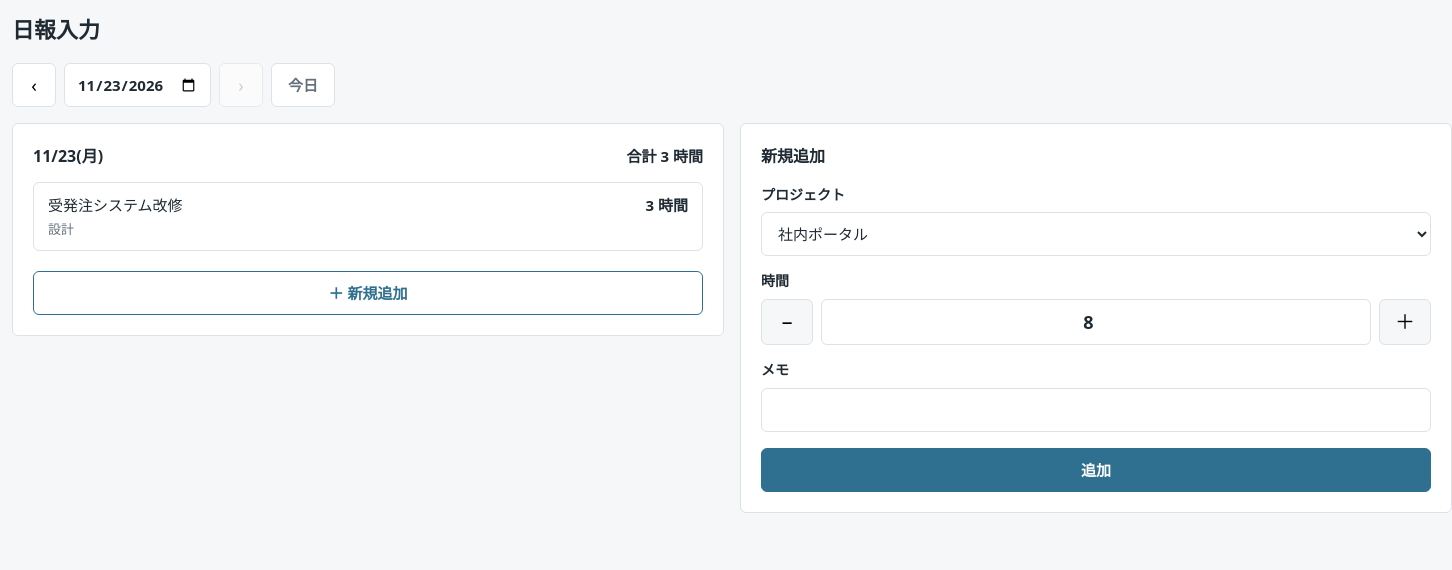
Scenario: 新規追加 › 編集中に「新規追加」を押すと、新しく入力できる
This screenshot has width=1452, height=570.
Click the button "受発注システム改修 3 時間 設計" at (115, 205), box top-left (33, 182), bottom-right (703, 251)
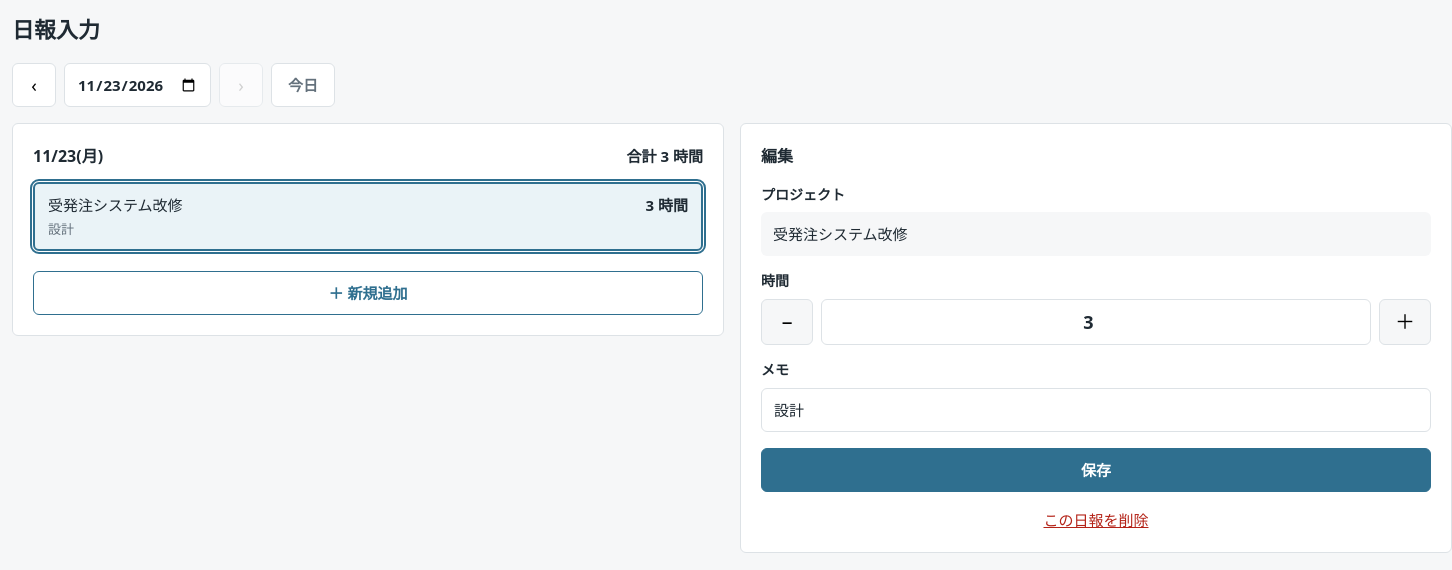
Expected: the heading "編集" is shown, top-left (761, 145), bottom-right (793, 167)
Click the button "＋ 新規追加" at (368, 293), box top-left (33, 271), bottom-right (703, 315)
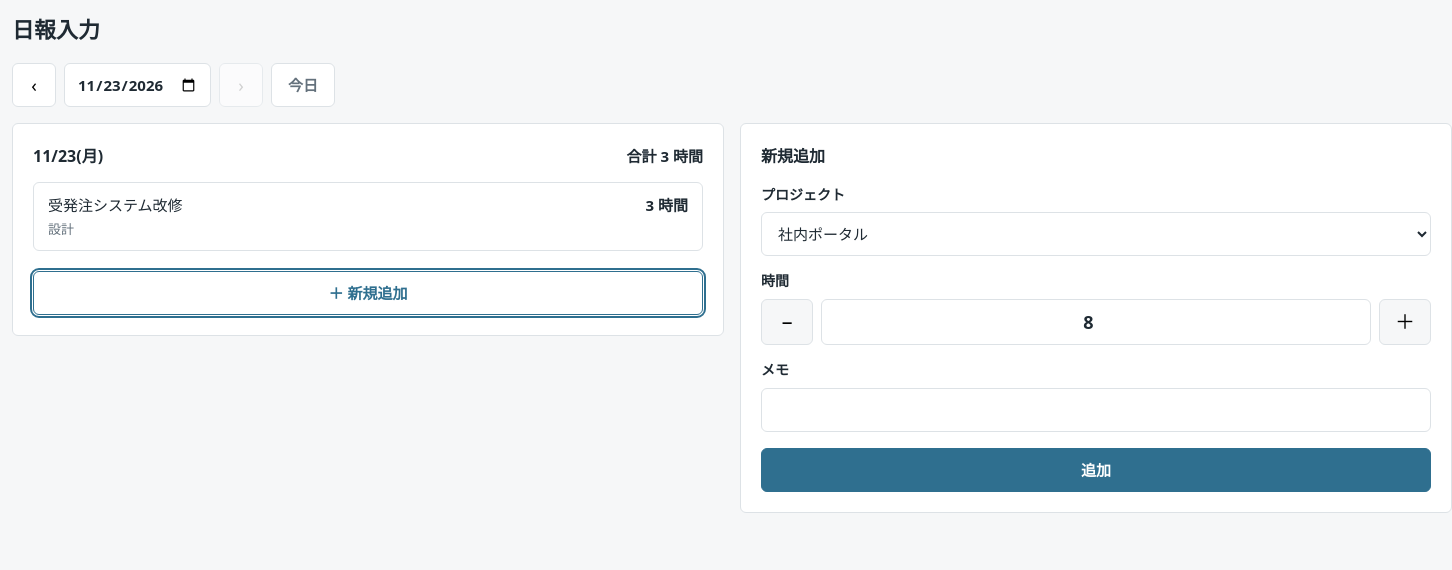
Expected: the heading "新規追加" is shown, top-left (761, 145), bottom-right (825, 167)
Expected: the number field labelled "時間" holds "8", top-left (821, 299), bottom-right (1371, 345)
Expected: the field labelled "メモ" is empty, top-left (761, 388), bottom-right (1431, 432)
